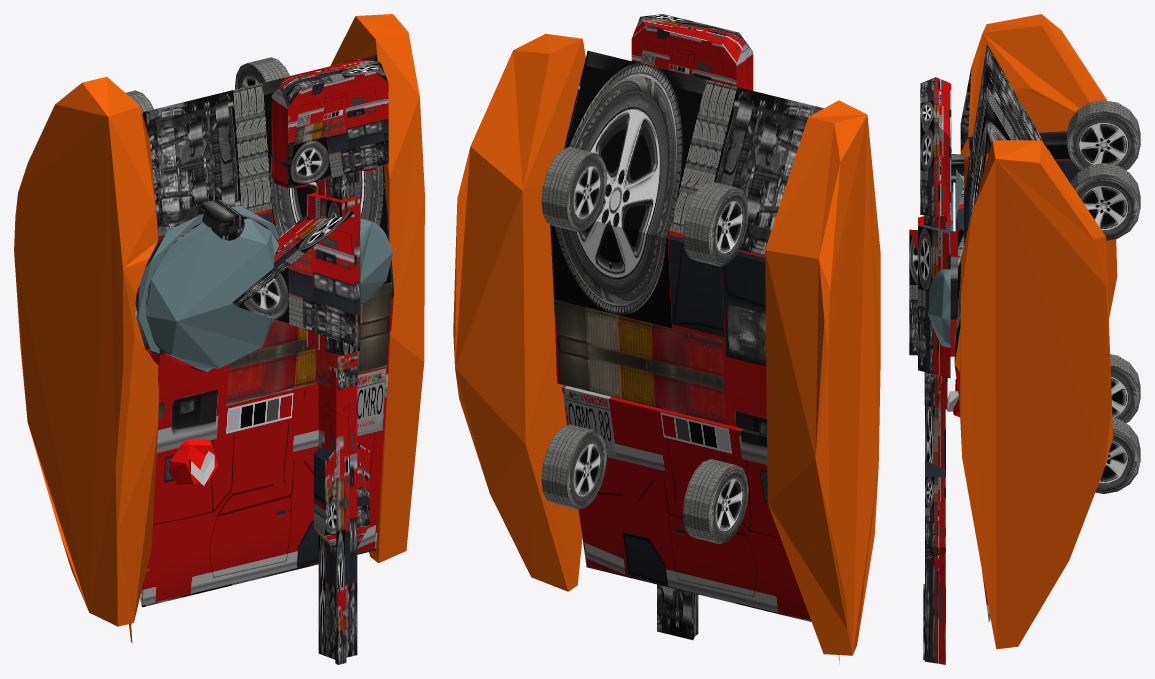
The model's file is tankwheeled_wtf.obj.
3 views of the same model, side by side, from view 1: azimuth 30°, elevation 25°; view 2: azimuth 150°, elevation 25°; view 3: azimuth 270°, elevation 25° (orthographic). The views are drawn at different scales.
Parts seen in each view (by area): view 1: group1, group4, group2, group3, group13, group9, group12, group5, group11, group17; view 2: group1, group4, group3, group2, group15, group16, group14, group17; view 3: group3, group2, group4, group1, group15, group17, group16, group14, group12, group13.
Part boxes in pixels (x1,y1,x2,y2): group1: (135,55,393,607); group4: (14,76,158,643); group2: (232,59,388,664); group3: (330,14,424,563); group13: (138,205,279,372); group9: (117,269,158,533); group12: (360,218,393,304); group5: (123,208,158,420); group11: (169,439,218,485); group17: (235,57,289,89); group1: (550,50,823,621); group4: (765,100,880,663); group3: (453,33,585,591); group2: (631,14,753,640); group15: (682,181,748,266); group16: (541,424,607,509); group14: (682,459,748,544); group17: (541,147,607,232); group3: (954,140,1113,649); group2: (909,77,957,664); group4: (968,14,1117,318); group1: (951,44,1080,621); group15: (1066,100,1140,170); group17: (1070,163,1140,240); group16: (1095,417,1140,493); group14: (1110,354,1140,423); group12: (927,269,950,347); group13: (950,169,963,231).
Bounding box in the file's own units: 421 × 660 × 247.
